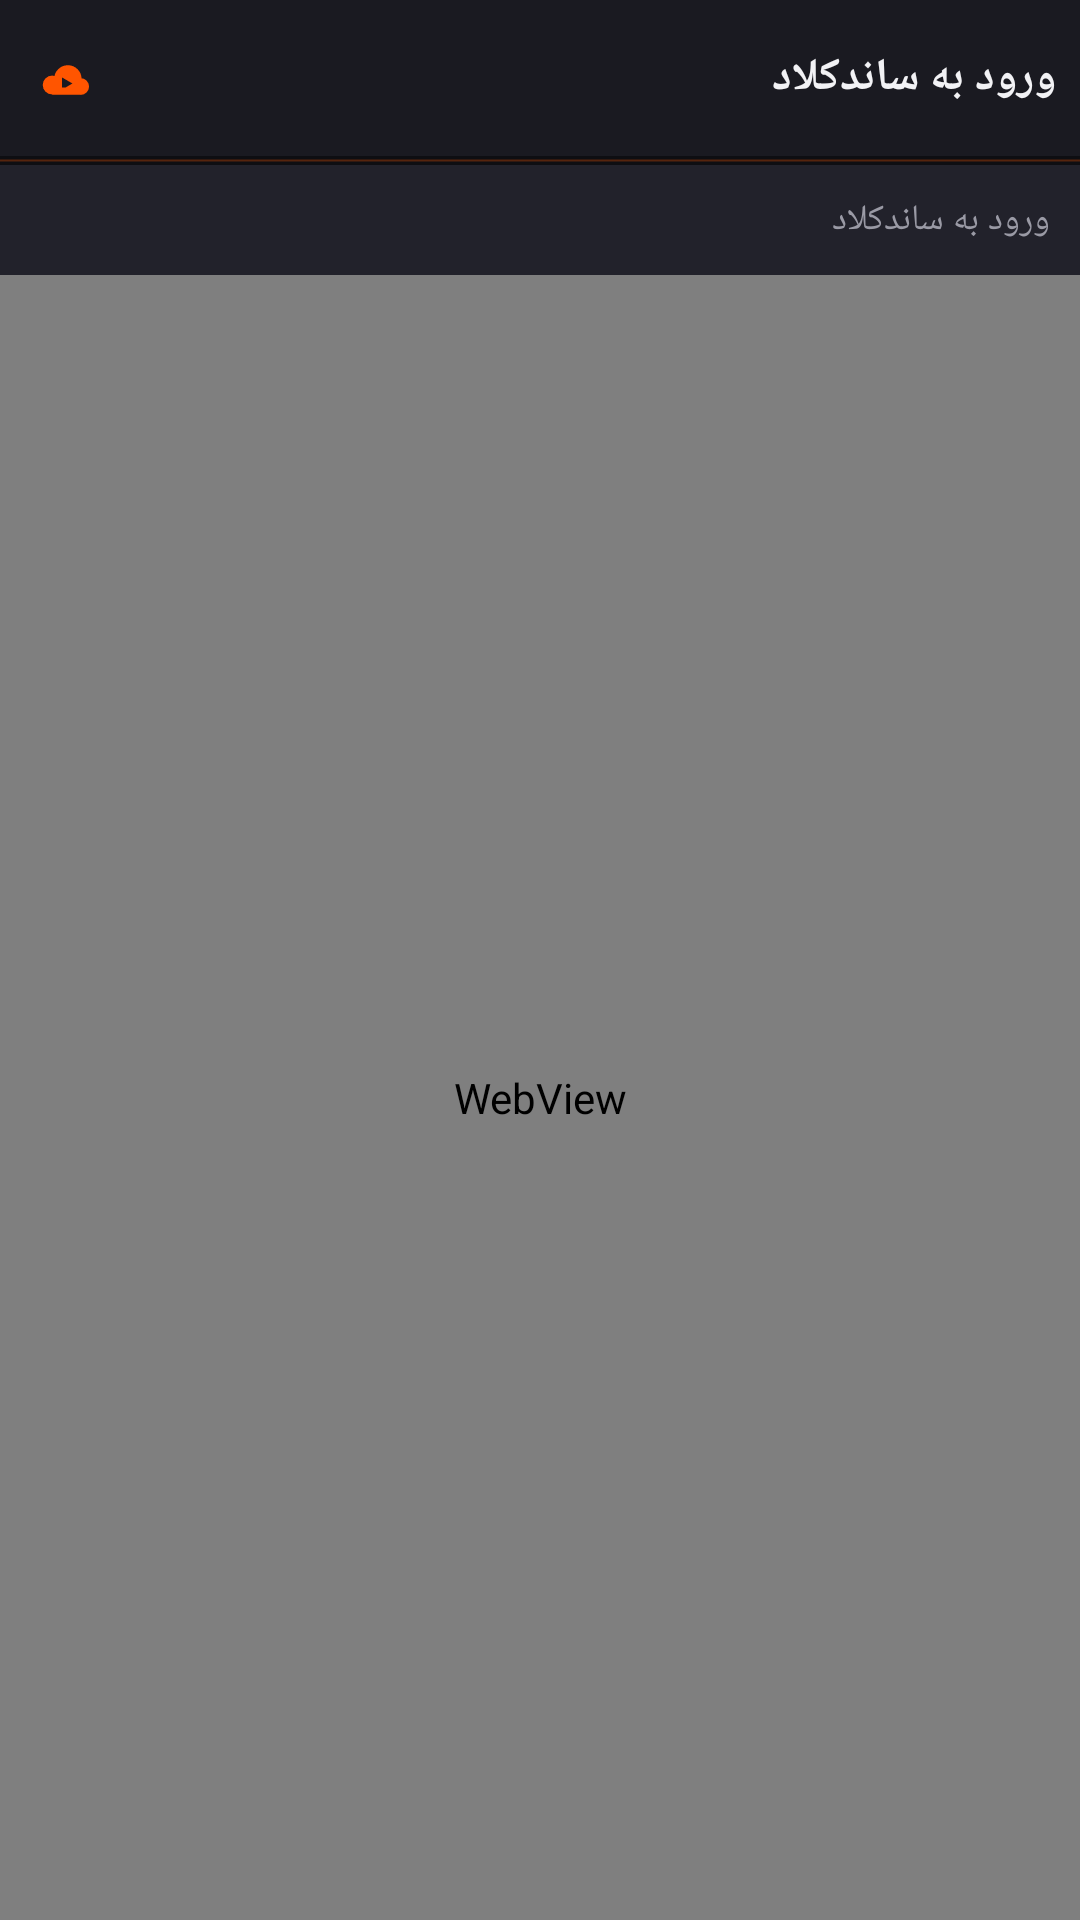

Icons on this 1080 x 1920 Android screen, each with the point to tap as (x,y):
cloud: (65,80)
